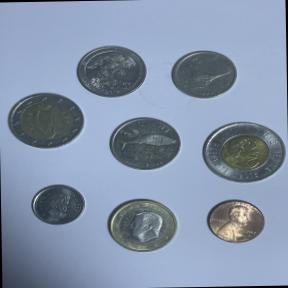coin: (195, 115, 288, 190), (2, 90, 88, 155), (99, 196, 184, 258), (104, 112, 184, 176), (74, 43, 153, 100), (202, 196, 270, 248), (28, 182, 88, 231)
